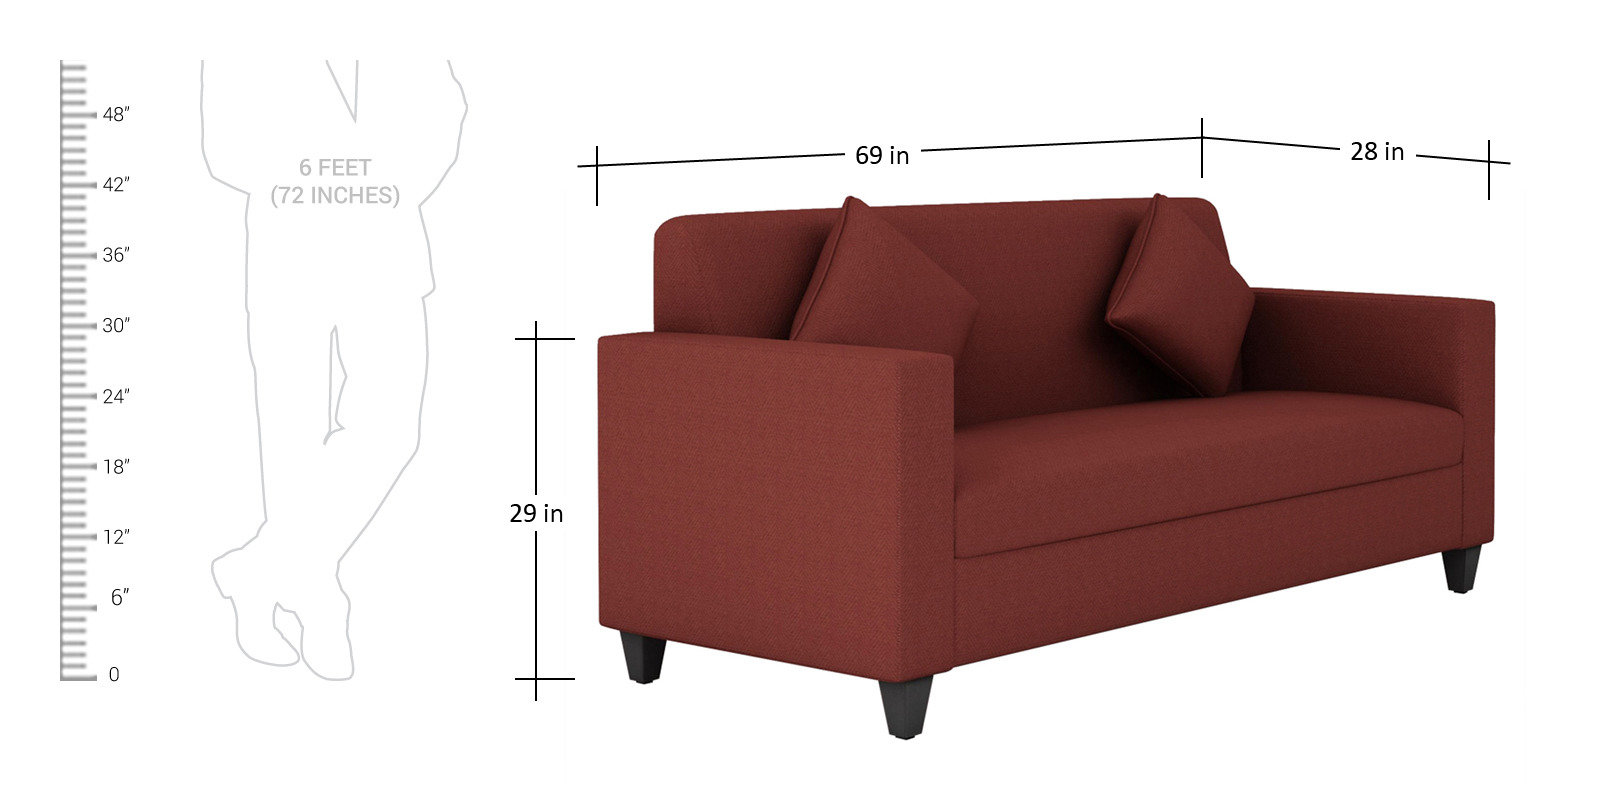Cooper Three Seater Sofa in Cherry Colour by ARRA: (584, 202, 1517, 760)
